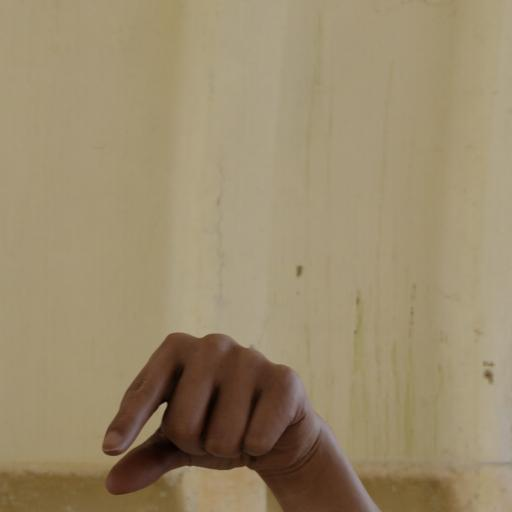Q: (97, 325, 325, 500)
